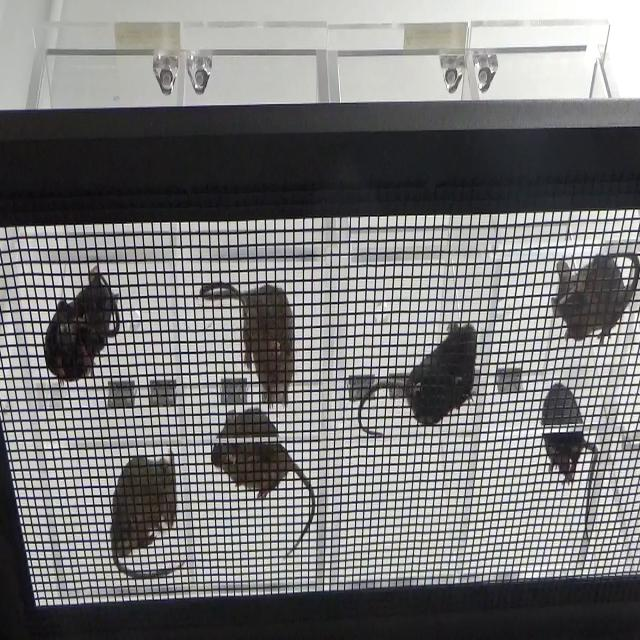lick tail: (40, 265, 126, 386)
scratch: (550, 247, 639, 350)
